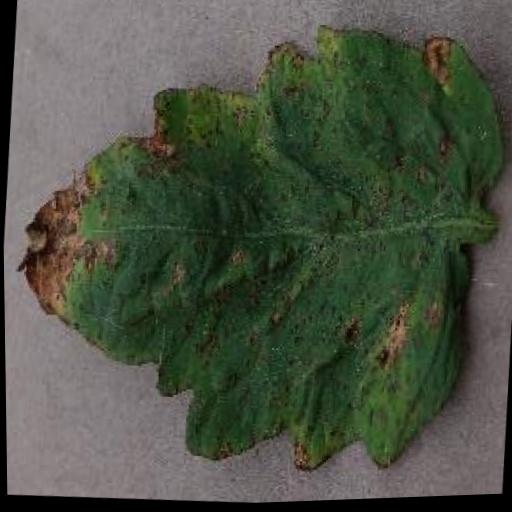Bacterial Spot: (0, 0, 512, 497)
